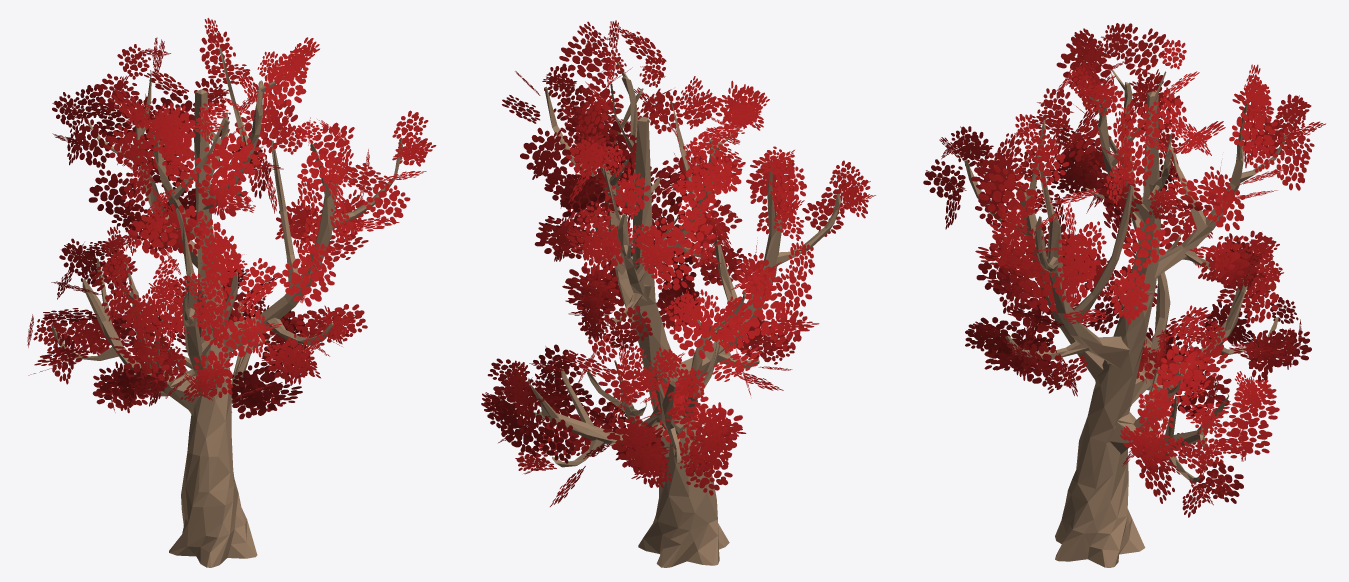
Rendered from broadleaf-spreading.far.quaternius.glb.
The picture shows the model from 3 angles, left to right: view 1: azimuth 30°, elevation 25°; view 2: azimuth 150°, elevation 25°; view 3: azimuth 270°, elevation 25°; orthographic projection. The views are drawn at different scales.
Parts seen in each view (by area): view 1: TwistedTree_3; view 2: TwistedTree_3; view 3: TwistedTree_3.
Part boxes in pixels (<box>): TwistedTree_3: <box>27,18,436,567</box>; TwistedTree_3: <box>481,20,875,567</box>; TwistedTree_3: <box>923,23,1325,567</box>.
Bounding box in the file's own units: 10.37 × 14.98 × 10.74.
Materials: 2 (1 with a texture image).
